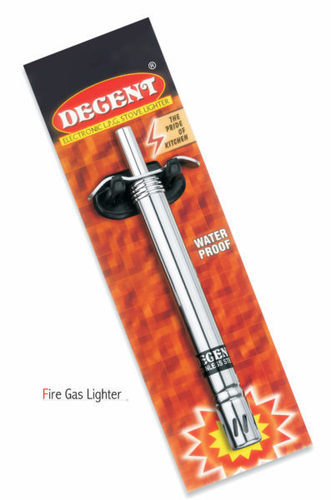Nonrec_Other: (48, 57, 304, 477)
